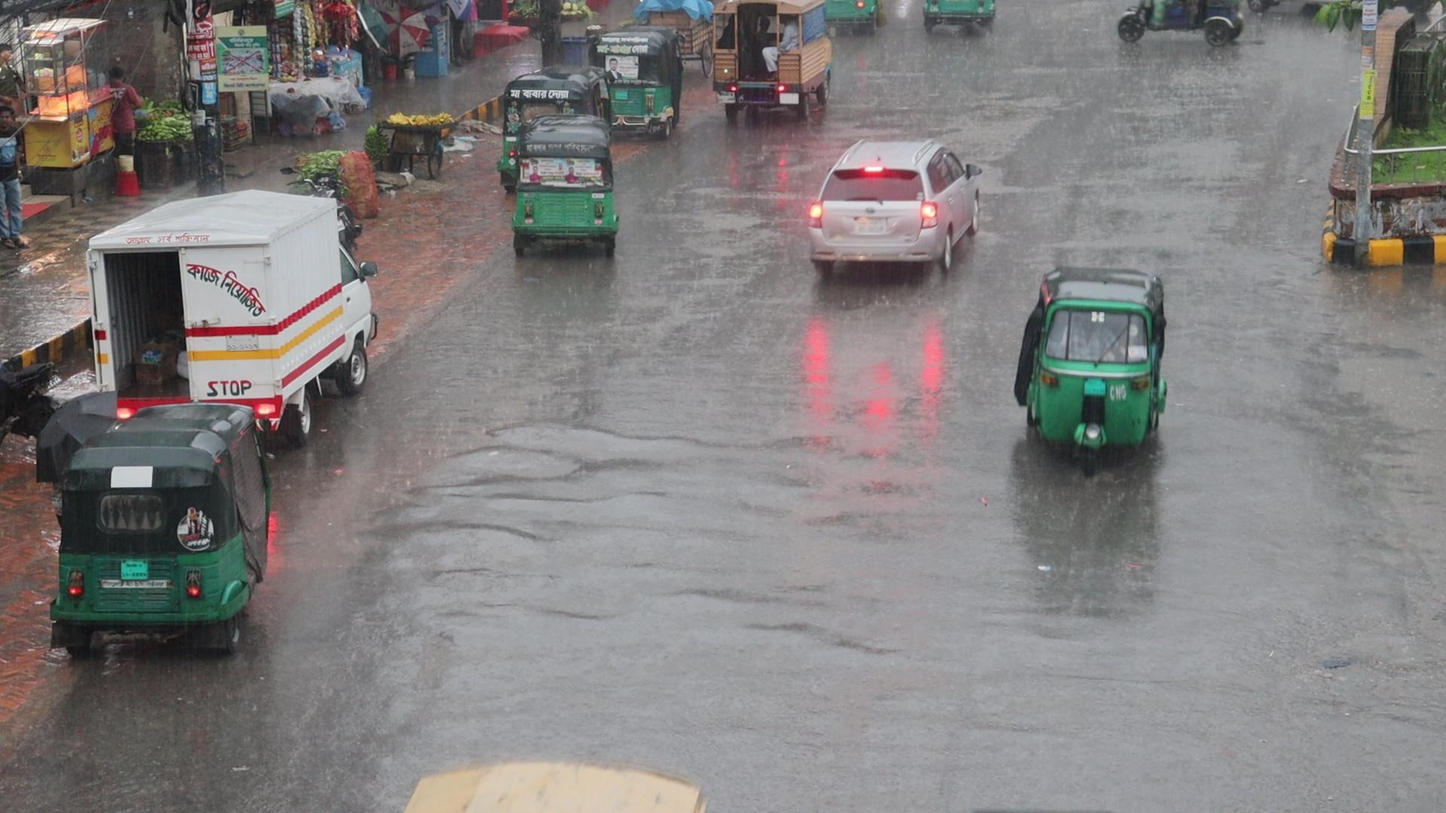Car: (800, 132, 987, 290)
Truck: (702, 0, 830, 140)
